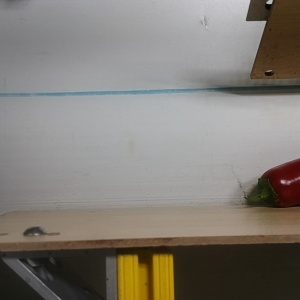Cut Point: (252, 166, 290, 205)
